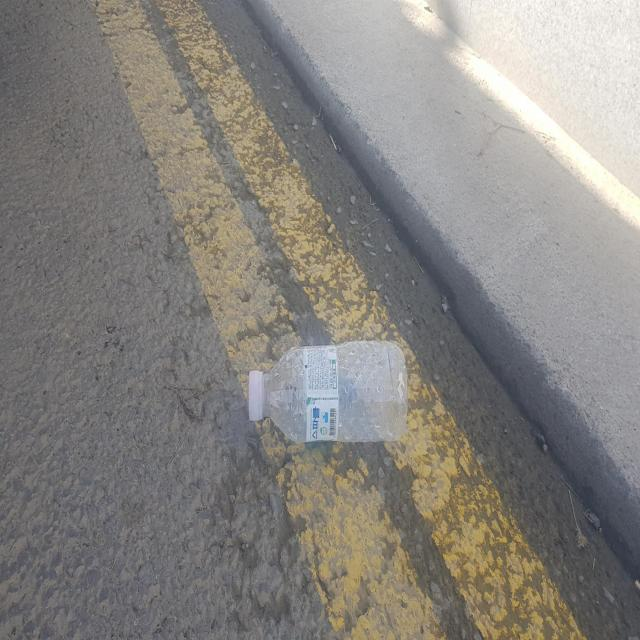plastic: (248, 340, 408, 442)
